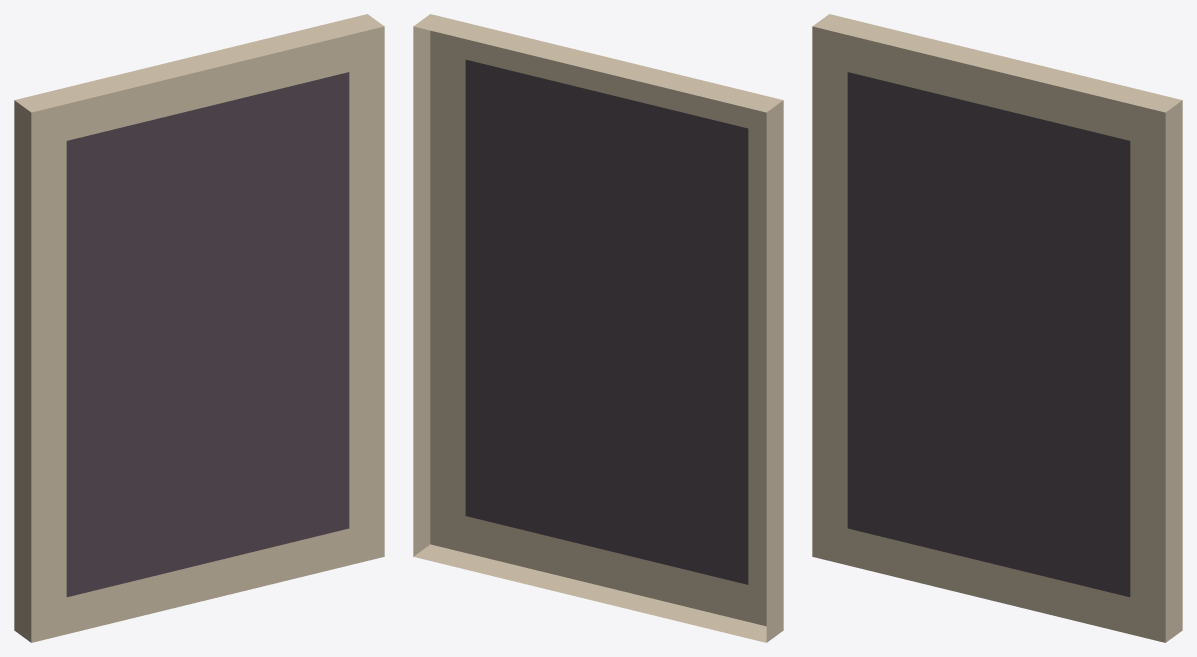
File: Paint_5.fbx
The picture shows the model from 3 angles, left to right: view 1: azimuth 30°, elevation 25°; view 2: azimuth 150°, elevation 25°; view 3: azimuth 330°, elevation 25°; orthographic projection.
Visible parts, largest first — view 1: polySurface1562; view 2: polySurface1562; view 3: polySurface1562.
Part boxes in pixels (x1,y1,x2,y2): polySurface1562: [14, 14, 384, 642]; polySurface1562: [413, 14, 783, 642]; polySurface1562: [812, 14, 1182, 642].
Bounding box in the file's own units: 0.9 × 1.29 × 0.075.
Materials: 1 (1 with a texture image).
